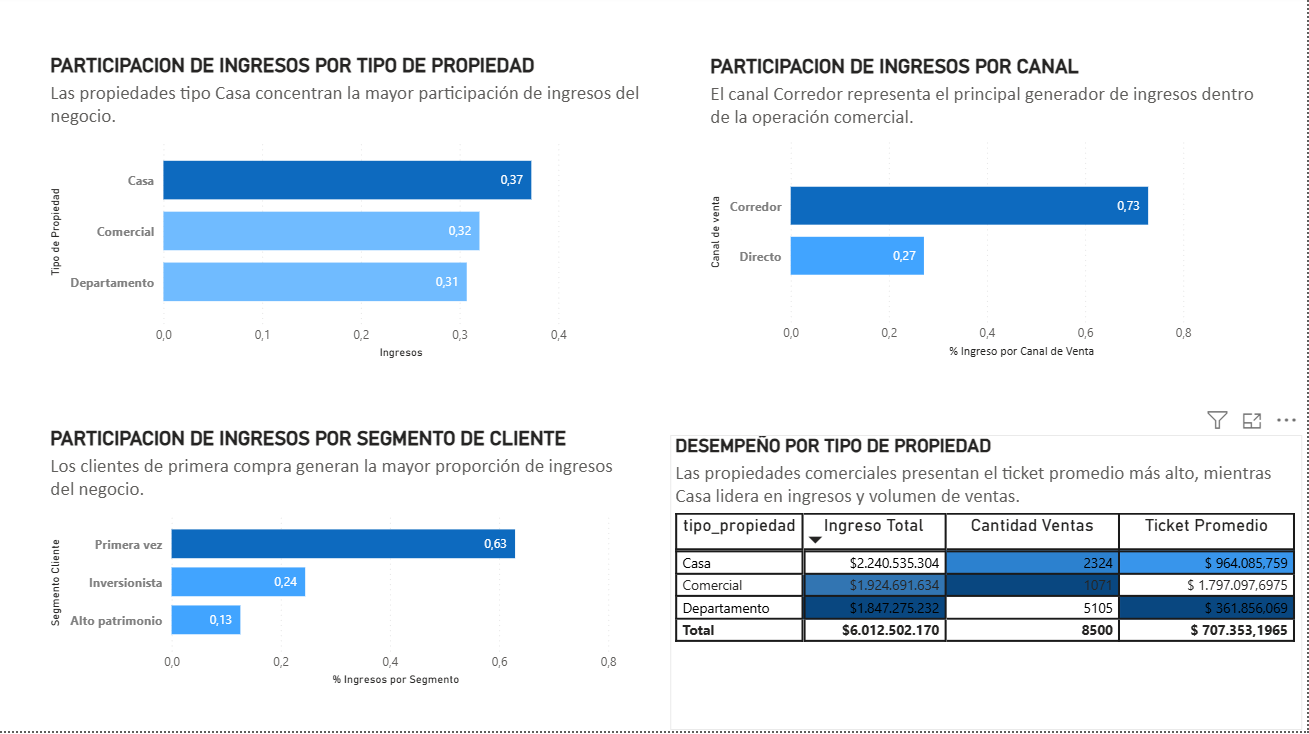

This screenshot's page, from the dashboard's own definition file:
{"tool":"powerbi","page":{"name":"Analisis Comercial","canvas":[1280,720],"ordinal":1},"visuals":[{"type":"barChart","title":"PARTICIPACION DE INGRESOS POR TIPO DE PROPIEDAD","fields":{"Category":["dim_propiedades.tipo_propiedad"],"Y":["hecho_ventas_propiedades.% ingresos tipo propiedad"]},"box":[45.3,57.3,594.2,302.4],"z":0},{"type":"barChart","title":"PARTICIPACION DE INGRESOS POR CANAL","fields":{"Y":["hecho_ventas_propiedades.% ingreso canal venta"],"Category":["hecho_ventas_propiedades.canal_venta"]},"box":[691.4,58.6,548.9,301.1],"z":1000},{"type":"barChart","title":"PARTICIPACION DE INGRESOS POR SEGMENTO DE CLIENTE","fields":{"Y":["hecho_ventas_propiedades.% ingresos por segmento"],"Category":["dim_clientes.segmento_comprador"]},"box":[45.3,423.6,575.5,257.1],"z":2000},{"type":"pivotTable","title":"DESEMPEÑO POR TIPO DE PROPIEDAD","fields":{"Rows":["dim_propiedades.tipo_propiedad"],"Values":["hecho_ventas_propiedades.ingreso total","hecho_ventas_propiedades.cantidad ventas","hecho_ventas_propiedades.ticket promedio"]},"box":[656.8,430.3,618.2,289.1],"z":3000}]}

Visuals, with their boxes in screenshot pixels (x1, y1, x2, y2), scaled from the page's 1280x720 canvas onto the 1309x734 screenshot:
"PARTICIPACION DE INGRESOS POR TIPO DE PROPIEDAD" barChart: pyautogui.locateOnScreen(46, 58, 654, 367)
"PARTICIPACION DE INGRESOS POR CANAL" barChart: pyautogui.locateOnScreen(707, 60, 1268, 367)
"PARTICIPACION DE INGRESOS POR SEGMENTO DE CLIENTE" barChart: pyautogui.locateOnScreen(46, 432, 635, 694)
"DESEMPEÑO POR TIPO DE PROPIEDAD" pivotTable: pyautogui.locateOnScreen(672, 439, 1304, 733)
